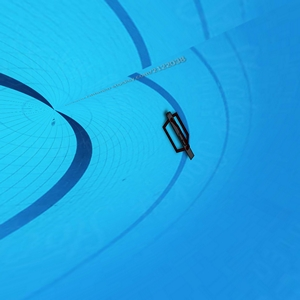submarine: (166, 111, 194, 161)
